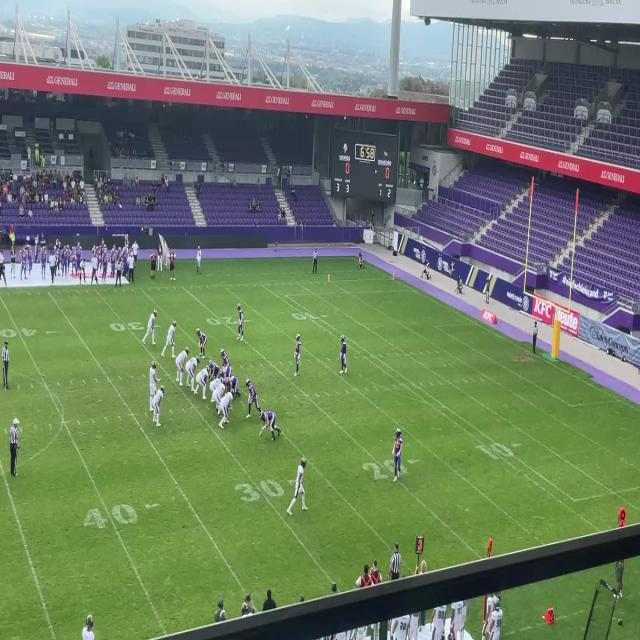4: (81, 503, 110, 535)
american-football-players: (287, 458, 311, 517), (217, 390, 236, 433), (391, 428, 406, 482), (470, 439, 500, 465), (258, 412, 283, 443), (245, 381, 264, 419), (361, 459, 388, 484), (149, 360, 161, 413), (183, 355, 199, 394), (150, 385, 164, 428), (142, 308, 156, 349), (175, 345, 189, 386), (162, 322, 176, 361), (194, 367, 209, 403), (224, 374, 242, 400), (338, 334, 349, 376), (293, 334, 303, 379), (213, 383, 227, 411), (195, 329, 208, 359), (220, 347, 232, 379), (236, 303, 245, 344), (209, 356, 222, 379), (208, 377, 224, 394)
numbers: (233, 478, 261, 510)
